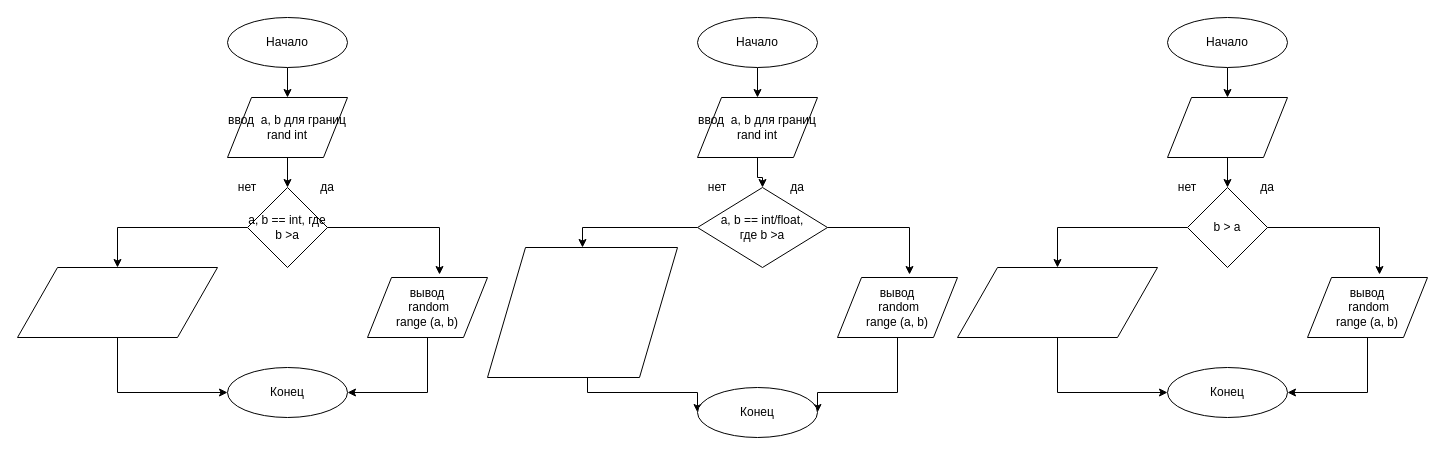
Image size: 1445x455. Some labels were removed from this diagram. Here are the shapes that lost their labels. From the top down, the centre of each, then its label:
(x=1227, y=127): ввод a, b для границ symbol
(x=117, y=302): вывод "Код неверный. Убедитесь, что a, b являются целыми числами и b>a"
(x=582, y=312): вывод "Код неверный. Убедитесь, что a, b являются вещественным числами и b>a"
(x=1057, y=302): вывод "Код неверный. Проверьте индекс a & b"
